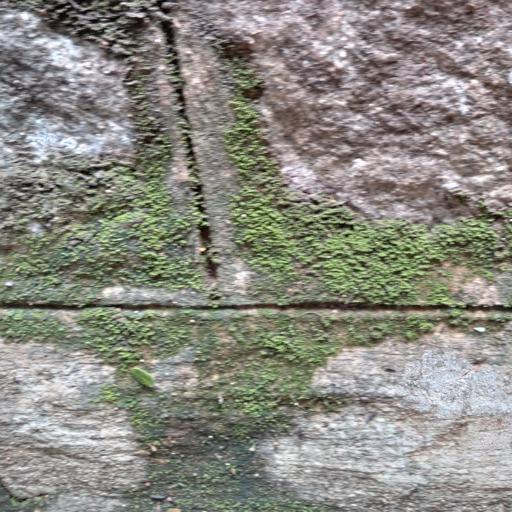algae: (18, 42, 512, 413)
